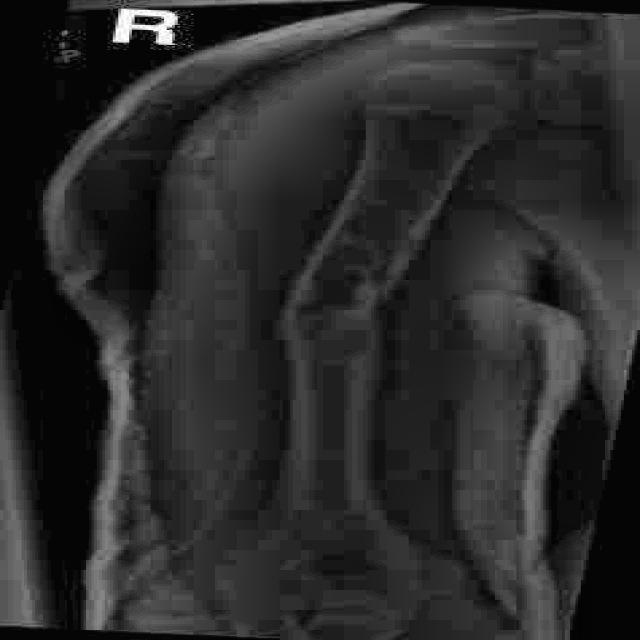humerus: (226, 231, 490, 396)
